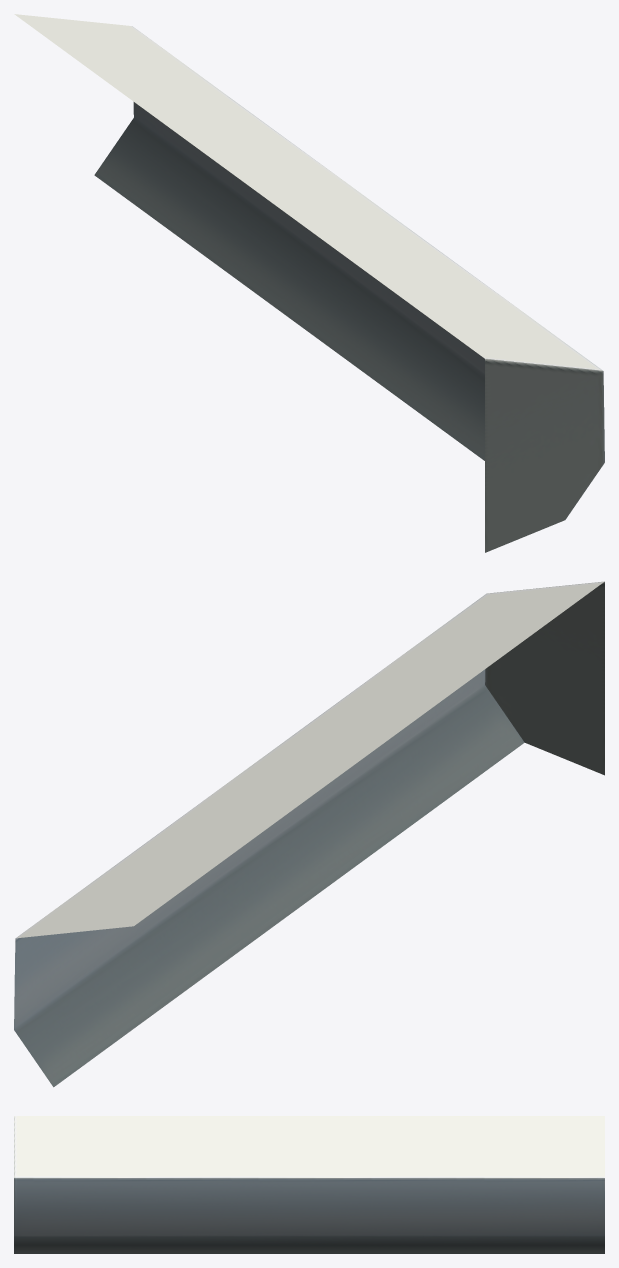
File: Tx_props_aircond_1.fbx
The picture shows the model from 3 angles, top to bottom: view 1: azimuth 30°, elevation 25°; view 2: azimuth 150°, elevation 25°; view 3: azimuth 270°, elevation 25°; orthographic projection. The views are drawn at different scales.
Parts seen in each view (by area): view 1: Tx_props_aircond_7; view 2: Tx_props_aircond_7; view 3: Tx_props_aircond_7.
Part boxes in pixels (left/top/right/bottom): Tx_props_aircond_7: left=14, top=14, right=604, bottom=552; Tx_props_aircond_7: left=14, top=581, right=604, bottom=1087; Tx_props_aircond_7: left=14, top=1116, right=604, bottom=1253.
Bounding box in the file's own units: 1.41 × 2.18 × 9.59.
